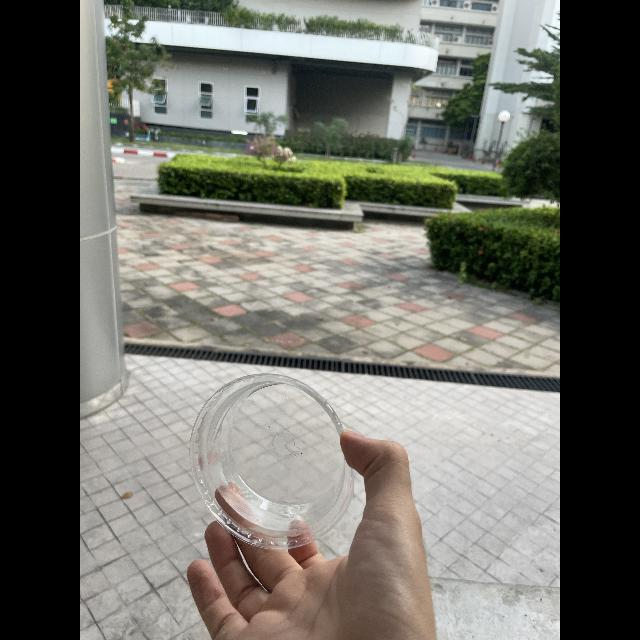plastic_cup_lid: (186, 353, 360, 561)
